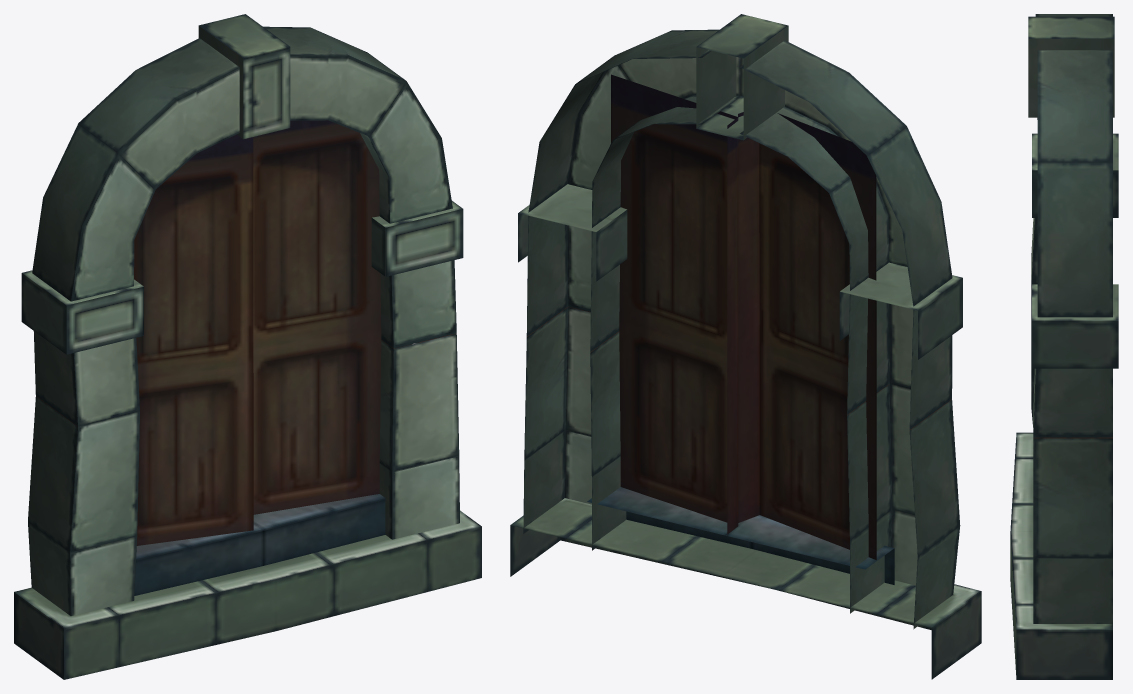
The model's file is 2_YiZhan_Chuang_02.FBX.
The picture shows the model from 3 angles, left to right: view 1: azimuth 30°, elevation 25°; view 2: azimuth 150°, elevation 25°; view 3: azimuth 270°, elevation 25°; orthographic projection. The views are drawn at different scales.
Visible parts, largest first — view 1: 2_YiZhan_Chuang_02; view 2: 2_YiZhan_Chuang_02; view 3: 2_YiZhan_Chuang_02.
Boxes of the visible parts, x1,y1,x2,y2 form: 2_YiZhan_Chuang_02: (14, 14, 481, 679); 2_YiZhan_Chuang_02: (510, 14, 981, 679); 2_YiZhan_Chuang_02: (1010, 14, 1118, 679).
Size of the model in its own units: 170 by 222 by 39.23.
